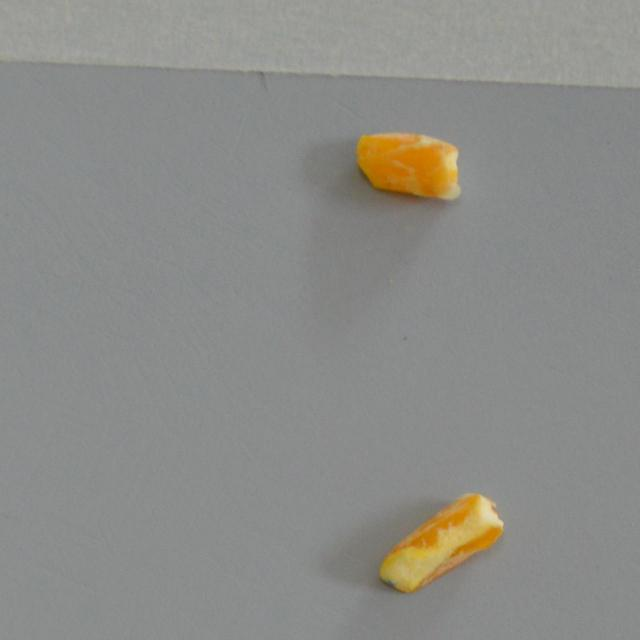pelicula: (378, 484, 506, 596), (352, 128, 463, 198)
